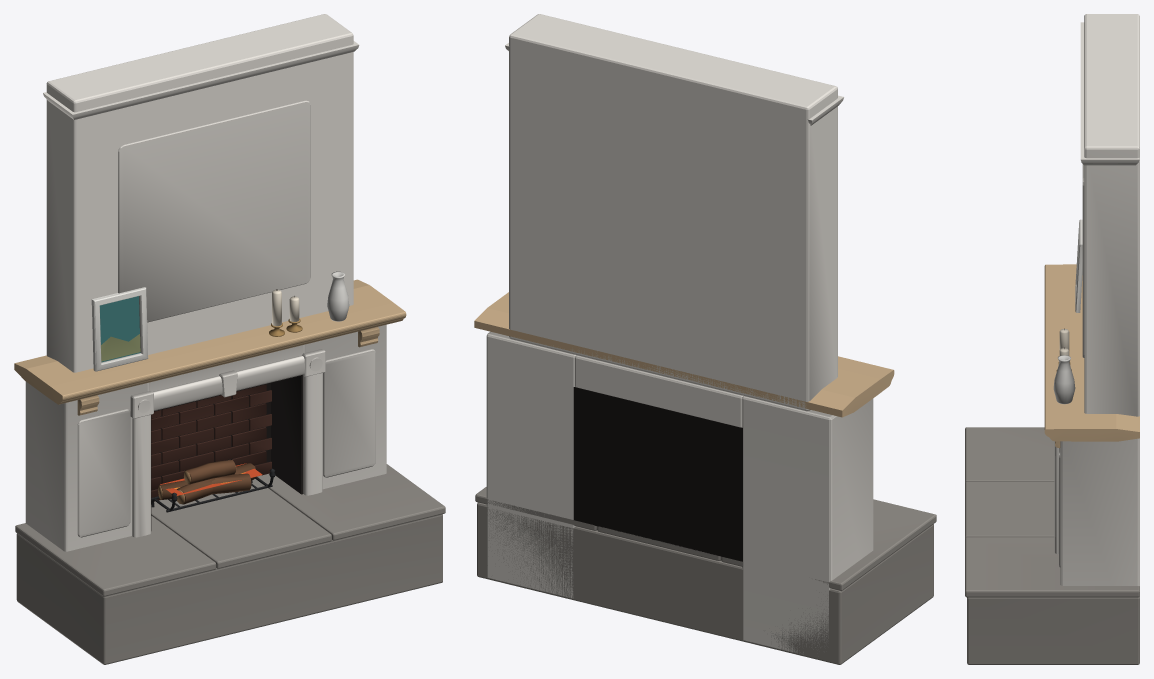
Rendered from fireplace.glb.
3 views of the same model, side by side, from view 1: azimuth 30°, elevation 25°; view 2: azimuth 150°, elevation 25°; view 3: azimuth 270°, elevation 25° (orthographic). The views are drawn at different scales.
Visible parts, largest first — view 1: body; view 2: body; view 3: body.
Boxes of the visible parts, box(x1,y1,x2,y2) form: body: box(14, 14, 445, 664); body: box(474, 14, 936, 664); body: box(965, 14, 1139, 664).
Bounding box in the file's own units: 1.96 × 2.8 × 0.88.
